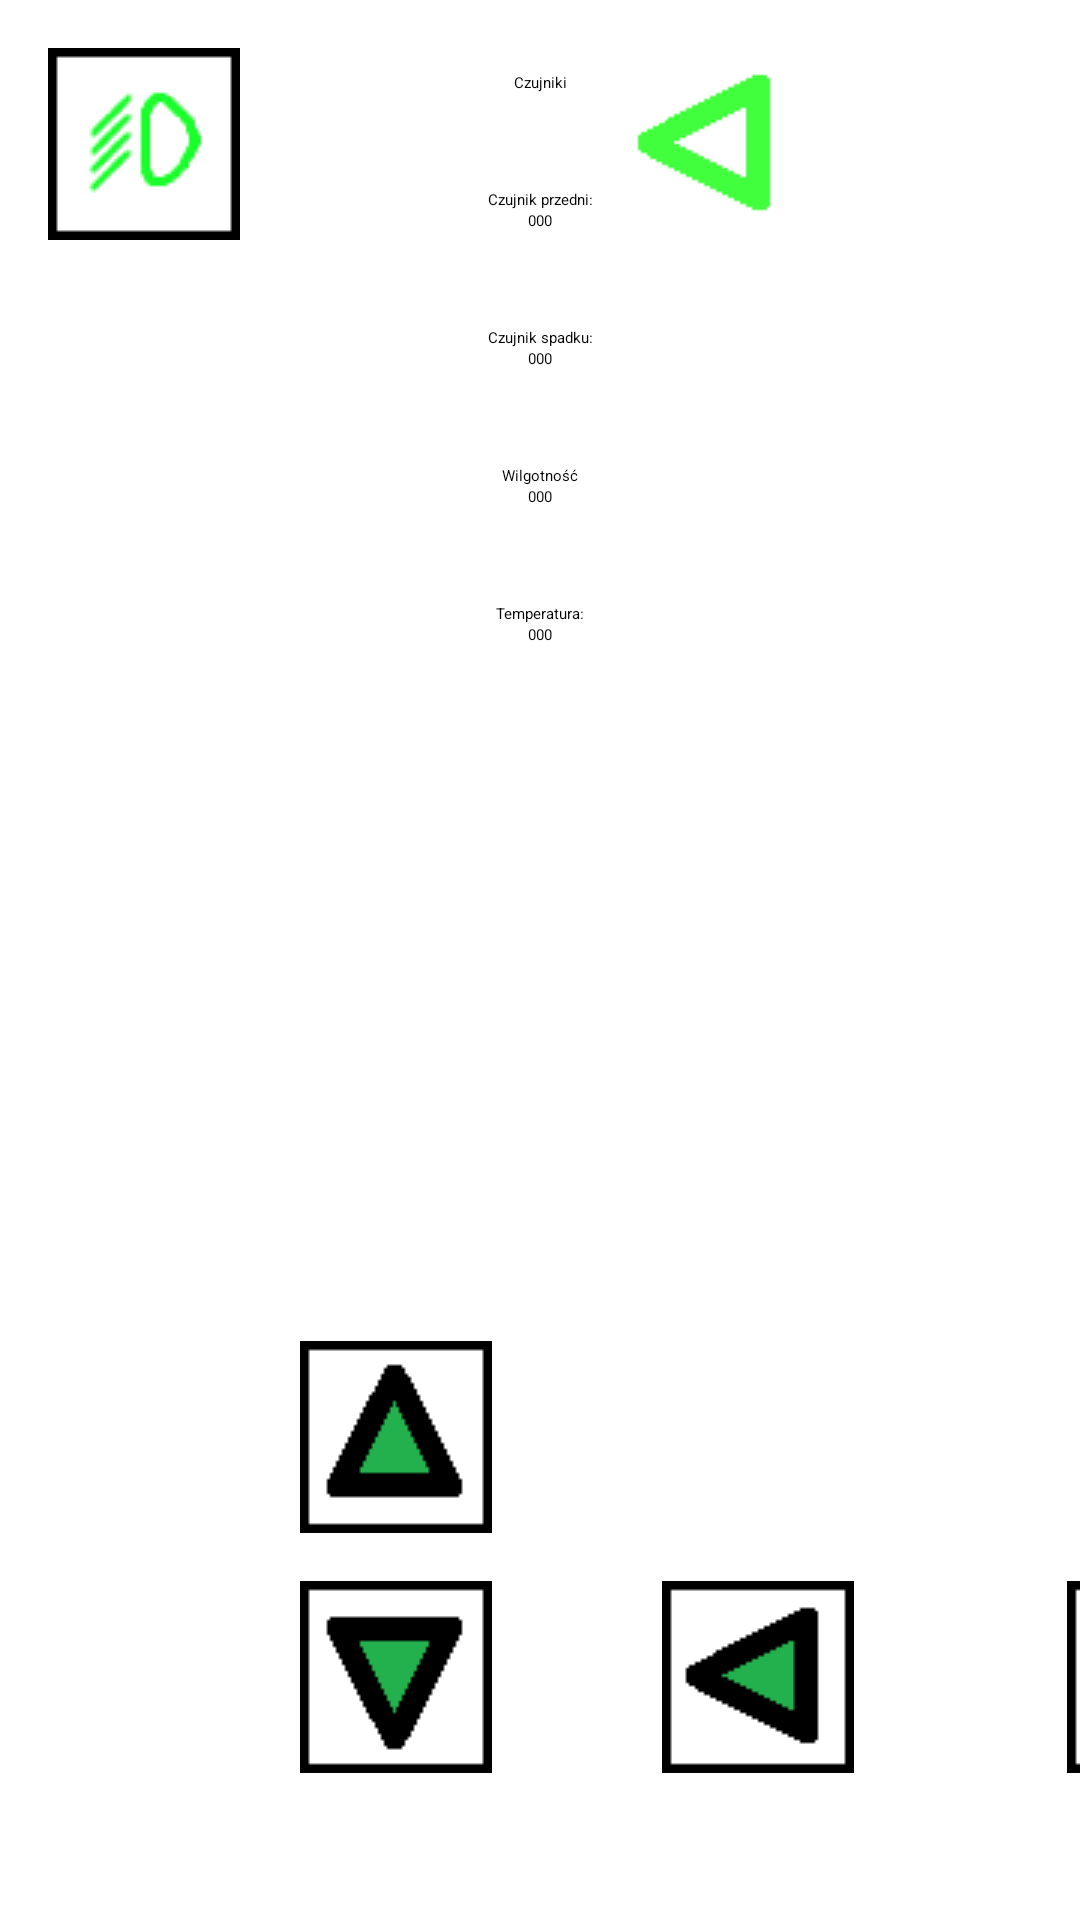

Icons on this 1080px x 1920px Android screen, each with its box as [x1, y1, x2, y2]:
kontroler backward: [300, 1581, 492, 1773]
kontroler forward: [300, 1341, 492, 1533]
kontroler kierunek left: [637, 74, 771, 211]
kontroler left: [662, 1581, 854, 1773]
kontroler mijania: [48, 48, 240, 240]
